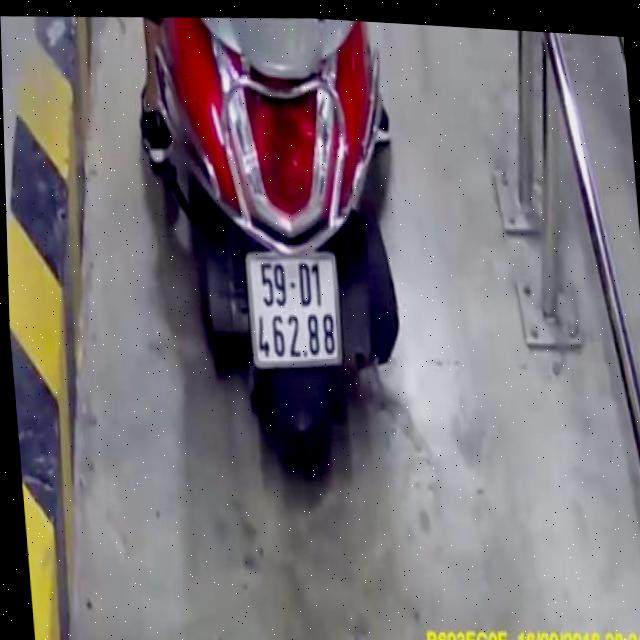motorcycle: (144, 9, 426, 497)
plate: (235, 242, 347, 376)
